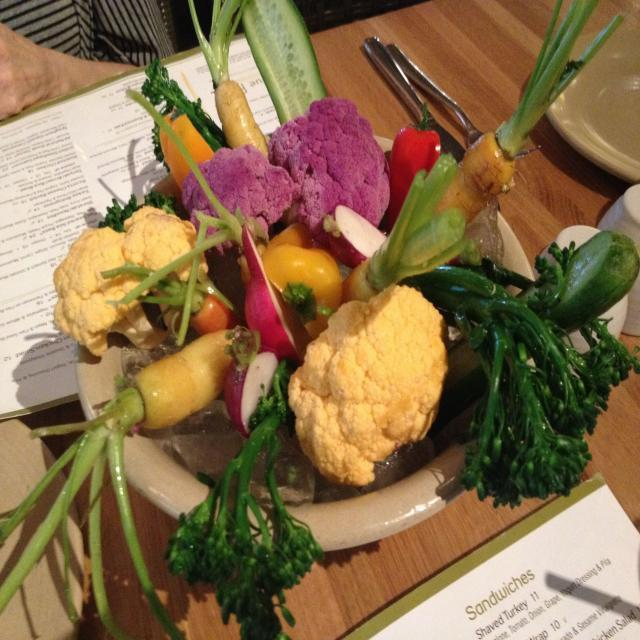Coliflor: (301, 285, 451, 472), (47, 220, 158, 353), (111, 199, 211, 299)
